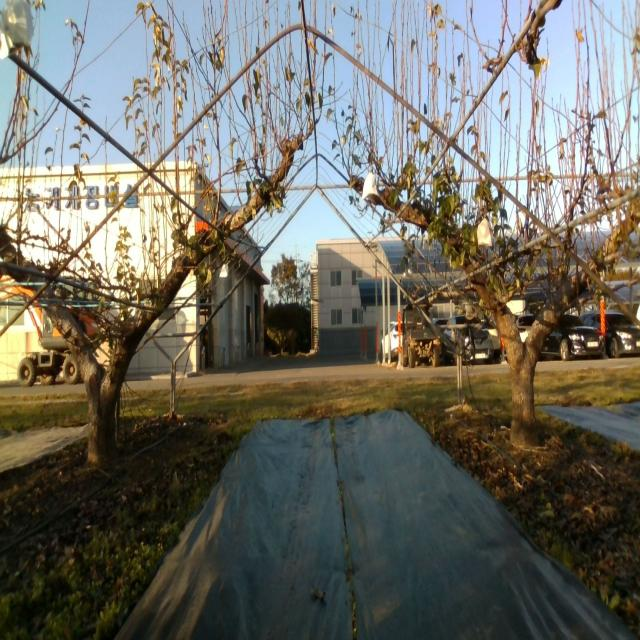pearbags: (0, 0, 33, 59), (477, 214, 493, 252), (362, 172, 379, 200)
